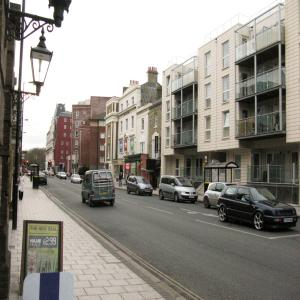Vehicle-registration-plate: (285, 219, 295, 224), (102, 192, 109, 194), (190, 197, 195, 199), (146, 192, 151, 193)
